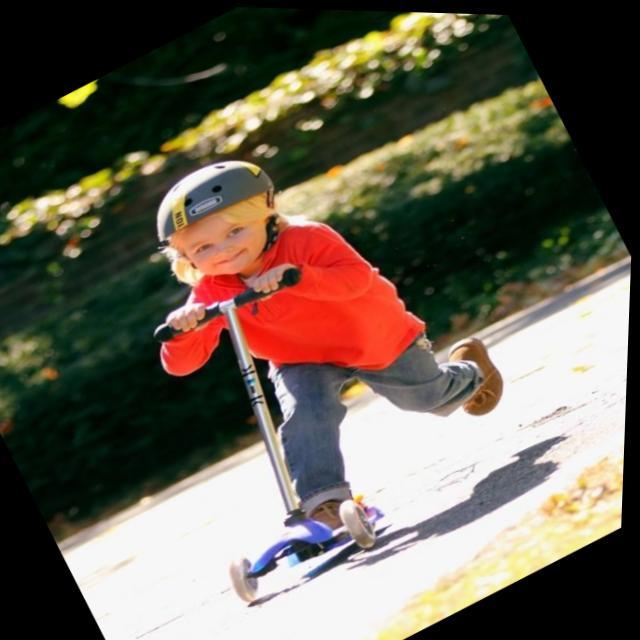Helmet: (146, 152, 286, 289)
